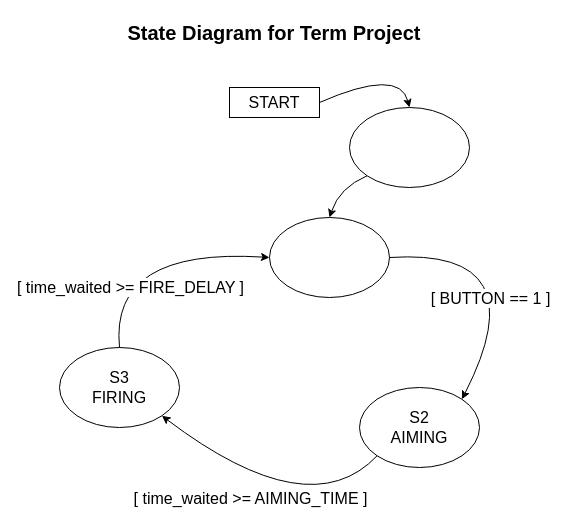
The diagram is 568 pixels wide and 525 high, and some of its shapes have lost their labels. The shapes that lost their labels are listed below. From the top down, each one's centre as x and y in pixels, then its label:
the point at 409,147: S0 Init
the point at 329,257: S1 WAIT
